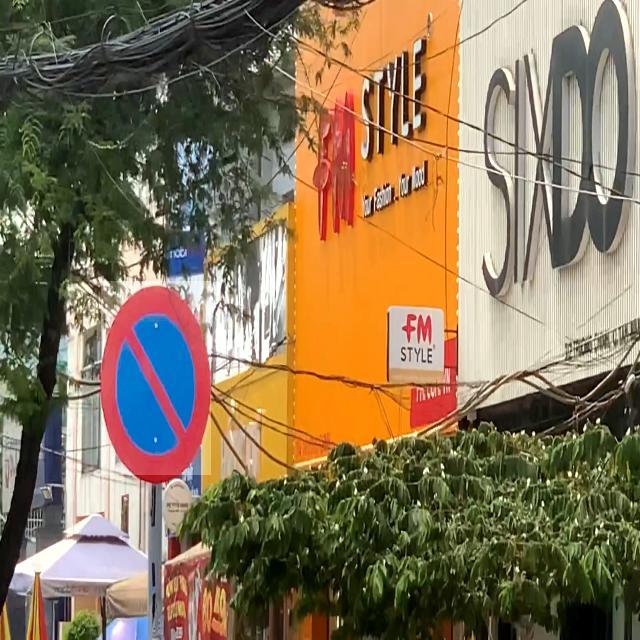P-131a: (101, 281, 211, 475)
